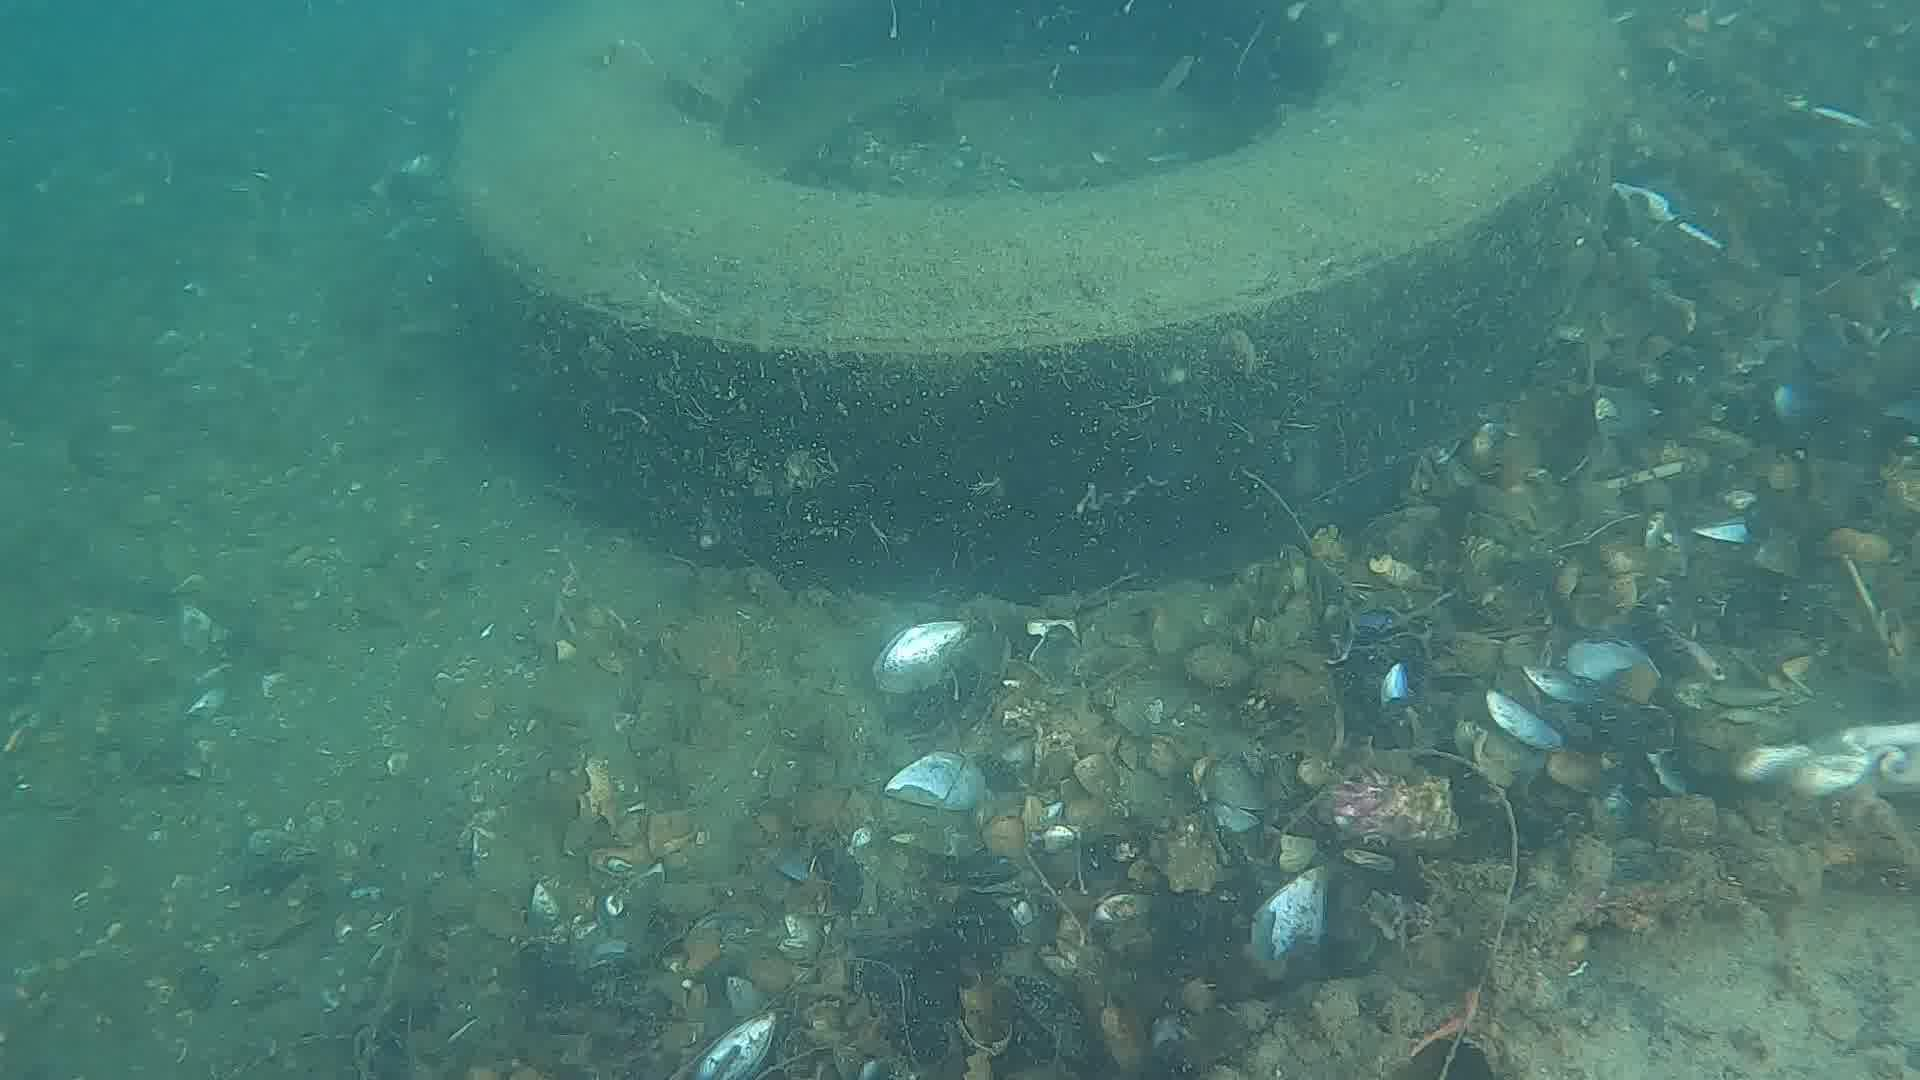tire: (442, 0, 1610, 568)
